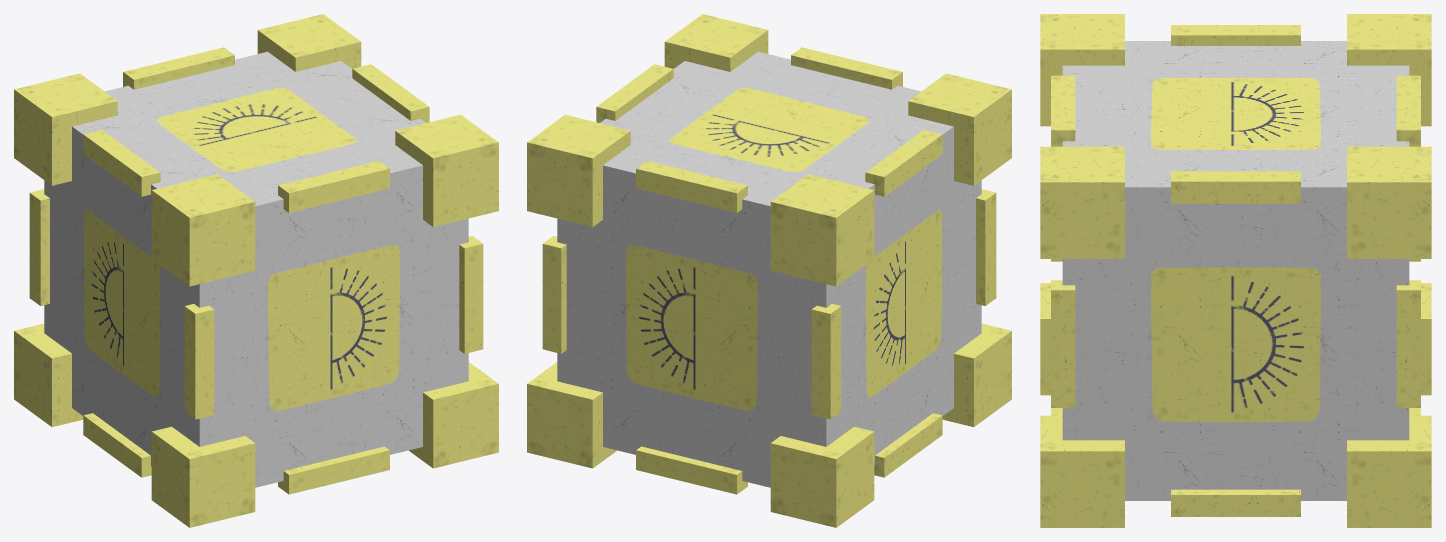
The model's file is boxDay.glb.
The picture shows the model from 3 angles, left to right: view 1: azimuth 30°, elevation 25°; view 2: azimuth 150°, elevation 25°; view 3: azimuth 270°, elevation 25°; orthographic projection. The views are drawn at different scales.
Parts seen in each view (by area): view 1: boxDay_low; view 2: boxDay_low; view 3: boxDay_low.
Boxes of the visible parts, box(x1,y1,x2,y2) form: boxDay_low: box(14, 14, 498, 527); boxDay_low: box(527, 14, 1011, 527); boxDay_low: box(1040, 14, 1431, 527).
Size of the model in its own units: 2.3 by 2.2 by 2.26.
1 material, 1 textured.
